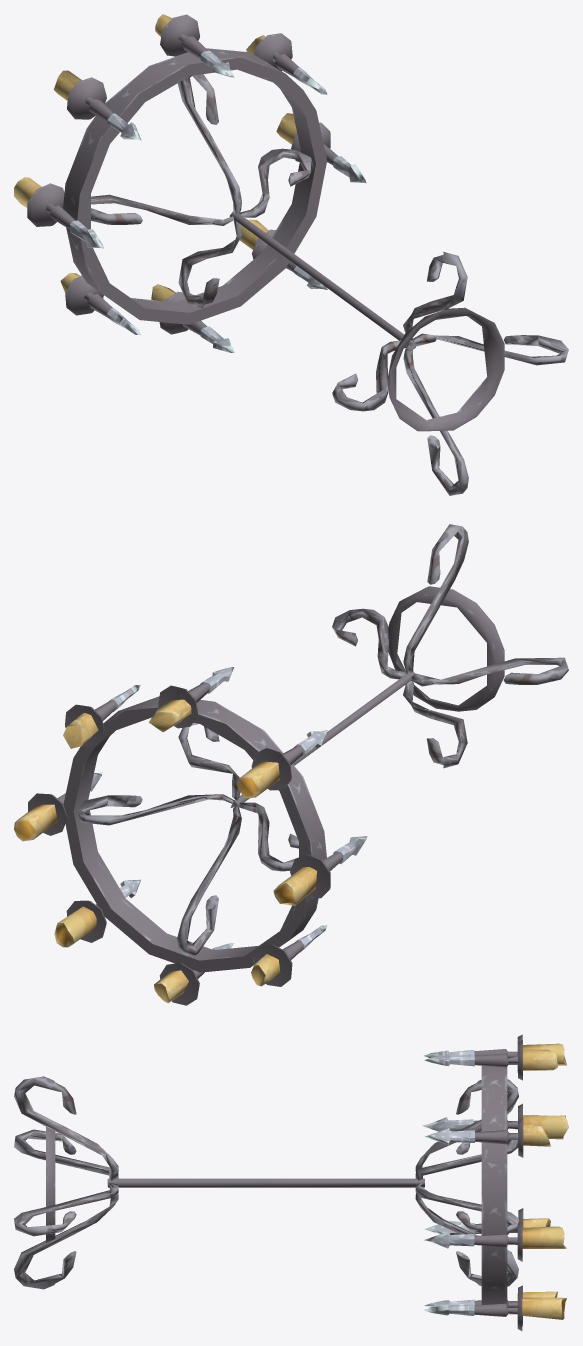
The model's file is fp-candlestick-stand-lod2.glb.
3 views of the same model, one above another, from view 1: azimuth 30°, elevation 25°; view 2: azimuth 150°, elevation 25°; view 3: azimuth 270°, elevation 25° (orthographic). The views are drawn at different scales.
Visible parts, largest first — view 1: WeaponMesh_fp-candlestick-stand_CandleStick_Stand; view 2: WeaponMesh_fp-candlestick-stand_CandleStick_Stand; view 3: WeaponMesh_fp-candlestick-stand_CandleStick_Stand.
Part boxes in pixels (left/top/right/bottom): WeaponMesh_fp-candlestick-stand_CandleStick_Stand: left=14, top=14, right=568, bottom=495; WeaponMesh_fp-candlestick-stand_CandleStick_Stand: left=14, top=524, right=568, bottom=1005; WeaponMesh_fp-candlestick-stand_CandleStick_Stand: left=14, top=1034, right=568, bottom=1330.
Bounding box in the file's own units: 0.6974 × 0.6965 × 1.25.
2 materials, 2 textured.
